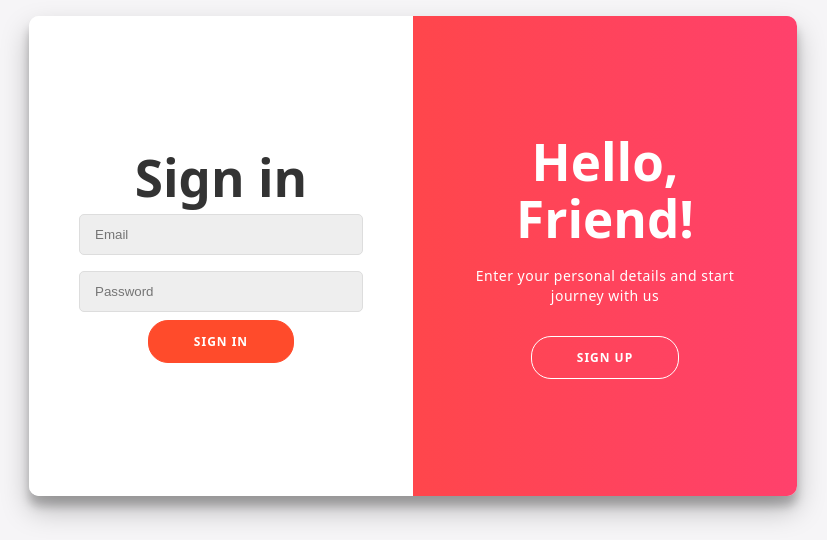
Login Page › should show validation for empty email
The image size is (827, 540).
Step 1. Click the button "Sign In" → [221, 342], box left=148, top=320, right=294, bottom=363
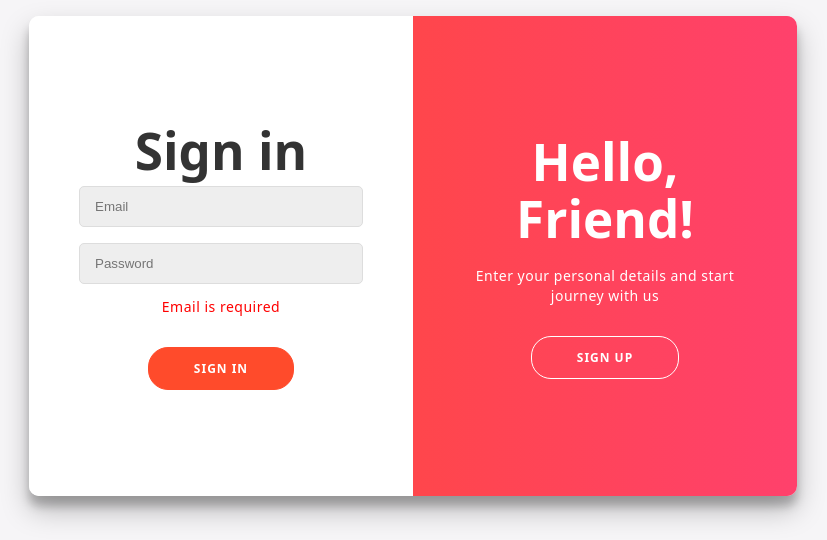
Check: the text with test id "login-error" reads "Email is required", box left=162, top=297, right=280, bottom=316
